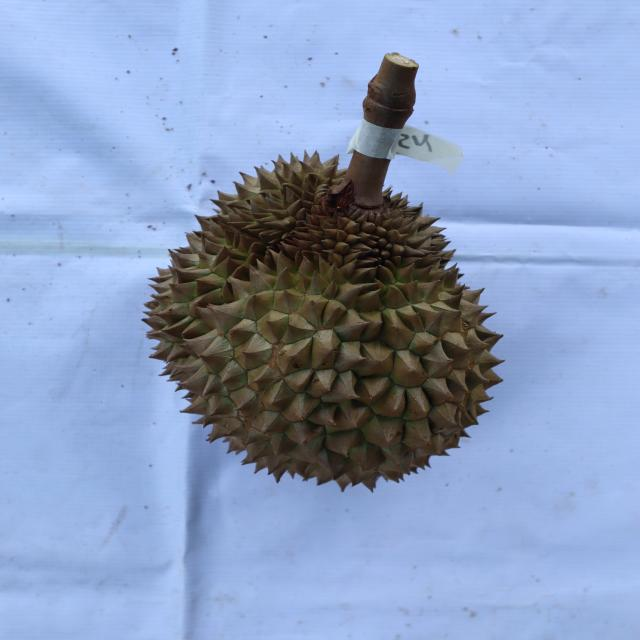mature: (141, 149, 511, 502)
